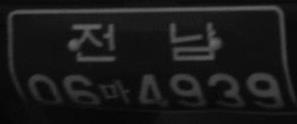0: (30, 72, 62, 111)
3: (208, 71, 243, 109)
4: (138, 72, 168, 114)
6: (63, 73, 99, 108)
9: (247, 70, 282, 111), (168, 72, 204, 108)
마: (98, 77, 129, 106)
전남_D: (72, 21, 220, 61)
